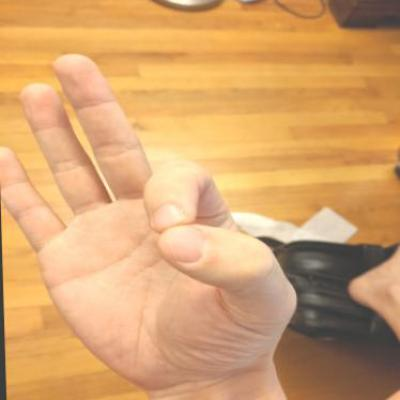hand: (0, 48, 302, 399)
